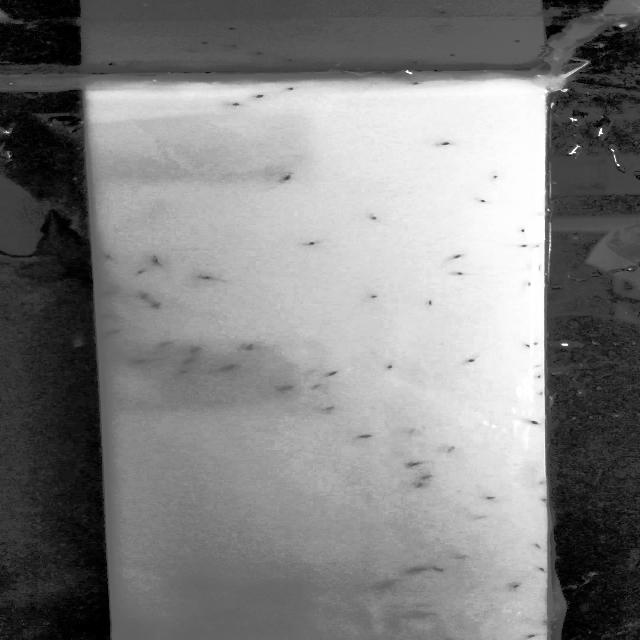shrimp: (96, 324, 125, 340), (461, 509, 492, 522), (376, 580, 405, 592), (458, 354, 484, 366), (150, 253, 172, 267), (179, 344, 211, 353), (125, 355, 153, 365), (277, 172, 296, 185), (194, 274, 221, 283), (137, 291, 157, 303), (101, 252, 124, 262), (324, 368, 342, 380), (214, 364, 237, 373), (304, 238, 324, 248), (447, 250, 467, 260), (366, 294, 388, 303), (132, 268, 152, 277), (480, 492, 497, 502), (243, 342, 257, 354), (486, 171, 506, 179), (438, 444, 454, 454), (426, 564, 446, 572), (404, 566, 430, 572), (404, 461, 426, 468), (530, 418, 544, 429), (439, 140, 454, 150), (354, 433, 384, 438), (370, 214, 386, 223), (280, 383, 296, 392), (534, 540, 546, 552), (144, 303, 172, 308), (506, 582, 525, 589), (383, 364, 403, 370), (285, 85, 298, 94), (528, 361, 542, 369), (321, 404, 335, 412), (454, 270, 471, 276), (478, 195, 492, 202), (530, 632, 544, 639), (524, 344, 536, 352), (516, 228, 531, 234), (521, 283, 536, 289), (181, 358, 196, 364), (537, 566, 548, 574), (254, 94, 268, 100), (307, 385, 321, 391), (412, 482, 427, 487), (177, 370, 190, 375), (516, 242, 526, 248), (418, 474, 438, 477), (426, 300, 440, 304), (233, 102, 246, 106), (410, 82, 418, 88)
